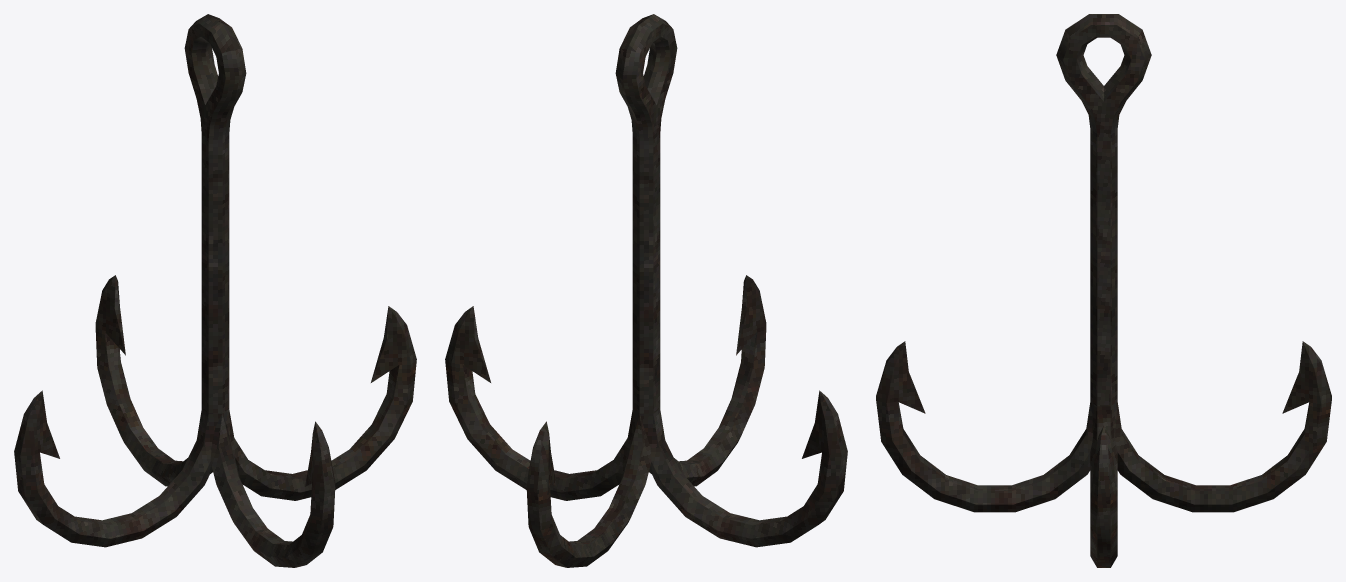
The model's file is fishing_hook_mx_2.glb.
The picture shows the model from 3 angles, left to right: view 1: azimuth 30°, elevation 25°; view 2: azimuth 150°, elevation 25°; view 3: azimuth 270°, elevation 25°; orthographic projection.
Visible parts, largest first — view 1: fishing_hook_mx_2; view 2: fishing_hook_mx_2; view 3: fishing_hook_mx_2.
Part boxes in pixels (<box>): fishing_hook_mx_2: <box>14,14,416,567</box>; fishing_hook_mx_2: <box>445,14,847,567</box>; fishing_hook_mx_2: <box>876,14,1331,567</box>.
Size of the model in its own units: 0.334 by 0.4006 by 0.334.
1 material, 1 textured.
